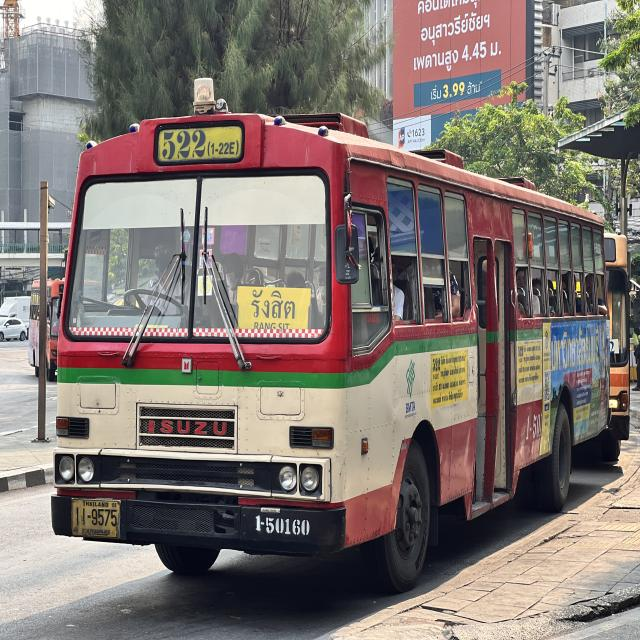BMTA-bus: (48, 80, 612, 592)
Bus-Line-Number: (156, 124, 240, 162)
Destination-Sign-Normal-Expressway: (236, 288, 310, 339)
